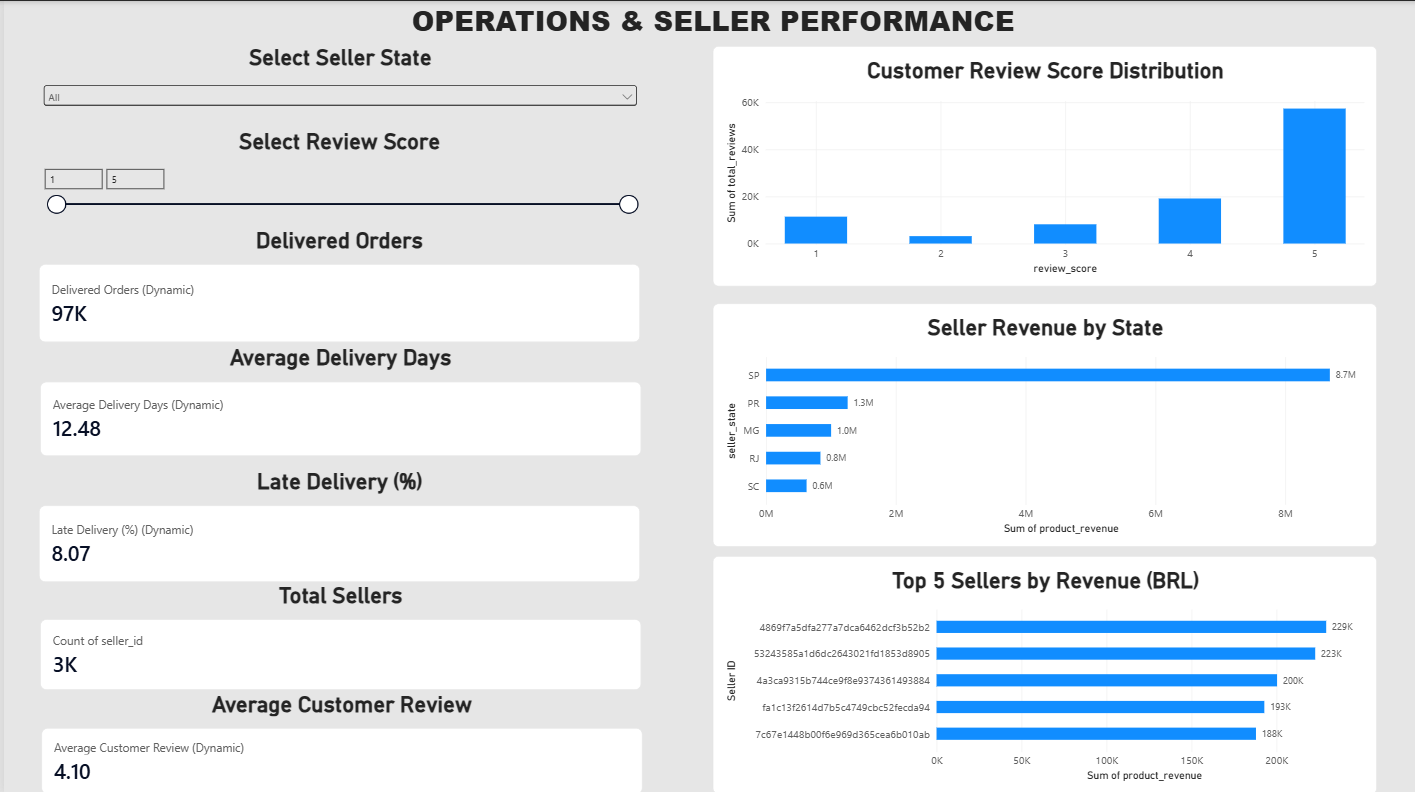

The page's visual inventory and layout, read from the dashboard file:
{"tool":"powerbi","page":{"name":"Operations & Seller Performance","canvas":[1920,1080],"ordinal":2},"visuals":[{"type":"textbox","box":[10.3,0,1910.1,59.7],"z":0},{"type":"cardVisual","title":"Delivered Orders","fields":{"Data":["olist_ecommerce customers.Delivered Orders (Dynamic)"]},"box":[47.3,308.7,818,157],"z":1000},{"type":"cardVisual","title":"Average Delivery Days","fields":{"Data":["olist_ecommerce customers.Average Delivery Days (Dynamic)"]},"box":[49.4,467.2,818,151.7],"z":2000},{"type":"cardVisual","title":"Late Delivery (%)","fields":{"Data":["olist_ecommerce customers.Late Delivery (%) (Dynamic)"]},"box":[47.3,636,818,155.2],"z":3000},{"type":"cardVisual","title":"Total Sellers","fields":{"Data":["Count(olist_ecommerce vw_seller_performance.seller_id)"]},"box":[48.8,791.9,818,146.5],"z":4000},{"type":"clusteredBarChart","title":"Top 5 Sellers by Revenue (BRL)","fields":{"Category":["olist_ecommerce vw_seller_performance.seller_id"],"Y":["Sum(olist_ecommerce vw_seller_performance.product_revenue)"]},"box":[964.6,754.6,904.1,323.9],"z":5000},{"type":"clusteredBarChart","title":"Seller Revenue by State","fields":{"Category":["olist_ecommerce vw_seller_performance.seller_state"],"Y":["Sum(olist_ecommerce vw_seller_performance.product_revenue)"]},"box":[964.6,411.1,904.1,331],"z":6000},{"type":"cardVisual","title":"Average Customer Review","fields":{"Data":["olist_ecommerce customers.Average Customer Review (Dynamic)"]},"box":[50.6,938.4,818,141.3],"z":7000},{"type":"clusteredColumnChart","title":"Customer Review Score Distribution","fields":{"Category":["olist_ecommerce vw_review_score_distribution.review_score"],"Y":["Sum(olist_ecommerce vw_review_score_distribution.total_reviews)"]},"box":[964.6,60.5,904.1,327.5],"z":8000},{"type":"slicer","title":"Select Seller State","fields":{"Values":["olist_ecommerce vw_seller_state_dimension.seller_state"]},"box":[49.8,58.7,816.9,101.4],"z":9000},{"type":"slicer","title":"Select Review Score","fields":{"Values":["olist_ecommerce vw_review_score_distribution.review_score"]},"box":[47.6,173.5,818.3,131],"z":10000}]}

Visuals, with their boxes in screenshot pixels (x1, y1, x2, y2), scaled from the page's 1920x1080 canvas onto the 1415x792 screenshot:
textbox: crop(8, 0, 1414, 44)
"Delivered Orders" cardVisual: crop(35, 226, 638, 342)
"Average Delivery Days" cardVisual: crop(36, 343, 639, 454)
"Late Delivery (%)" cardVisual: crop(35, 466, 638, 580)
"Total Sellers" cardVisual: crop(36, 581, 639, 688)
"Top 5 Sellers by Revenue (BRL)" clusteredBarChart: crop(711, 553, 1377, 791)
"Seller Revenue by State" clusteredBarChart: crop(711, 301, 1377, 544)
"Average Customer Review" cardVisual: crop(37, 688, 640, 791)
"Customer Review Score Distribution" clusteredColumnChart: crop(711, 44, 1377, 285)
"Select Seller State" slicer: crop(37, 43, 639, 117)
"Select Review Score" slicer: crop(35, 127, 638, 223)
